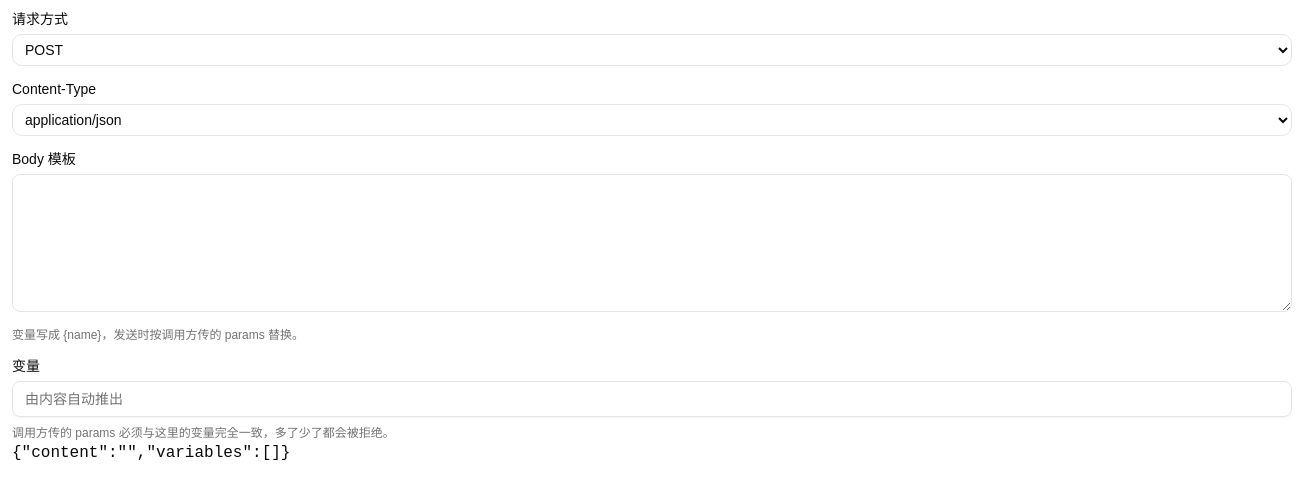
Test: webhook：GET 没有 Content-Type，正文标签变成 Query 模板
The image size is (1304, 477).
Expected: the dropdown labelled "Content-Type" is shown, [12,104,1292,136]
Expected: the text box labelled "Body 模板" is shown, [12,174,1292,312]
Select "GET" in the dropdown labelled "请求方式" at (652, 50), box [12,34,1292,66]
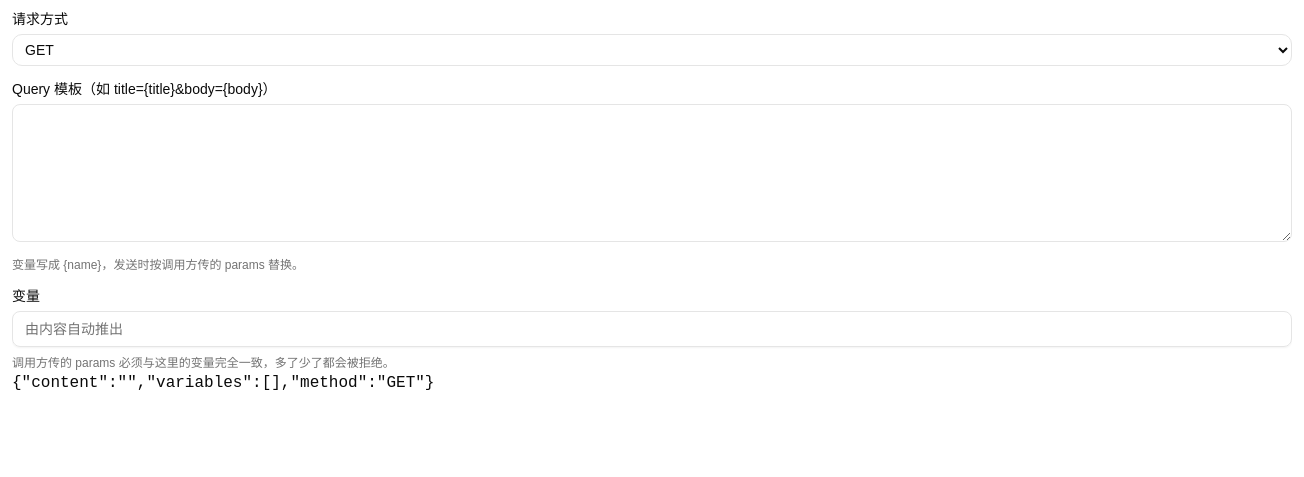
Expected: the text box labelled "Query 模板（如 title={title}&body={body}）" is shown, [12,104,1292,242]
Result: the label labelled "Content-Type" is gone
